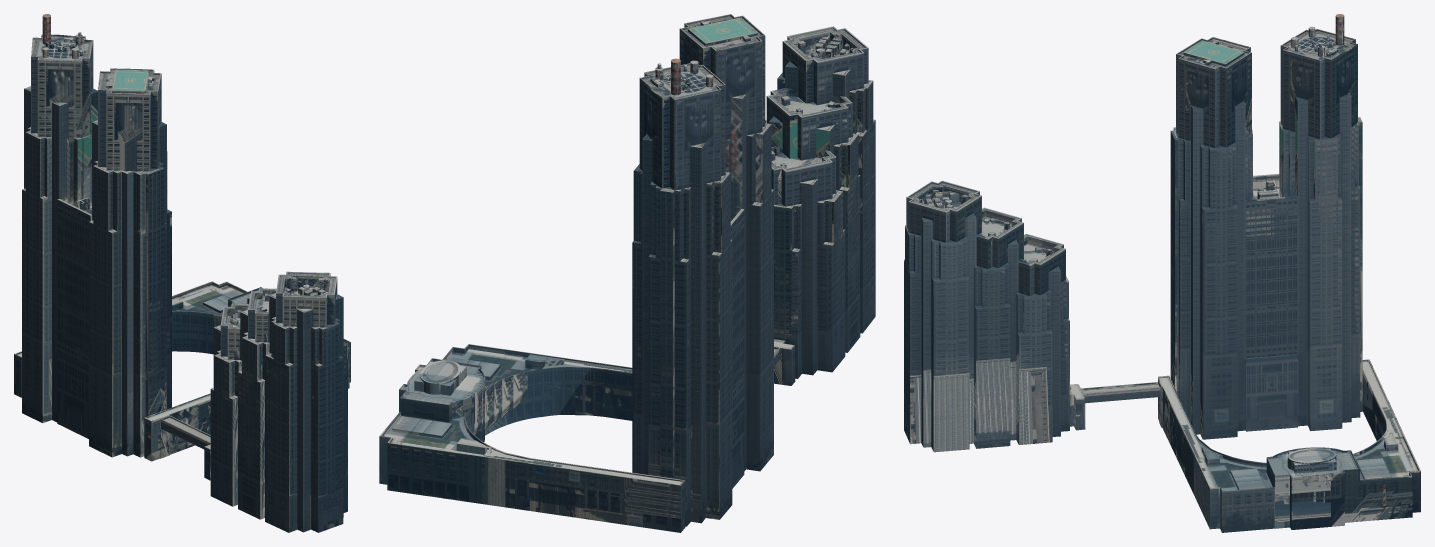
Rendered from citymodel.glb.
The picture shows the model from 3 angles, left to right: view 1: azimuth 30°, elevation 25°; view 2: azimuth 150°, elevation 25°; view 3: azimuth 270°, elevation 25°; orthographic projection. The views are drawn at different scales.
Visible parts, largest first — view 1: bldg_94caaf2f-dec2-41a7-8b0f-06ecd0fac6c7, bldg_d0967cf5-1f32-48d1-9dda-11320828a076, bldg_7e673dbb-95f1-4a0c-bdab-b0d7bb352d3b, bldg_178c97c9-6d9b-4418-84ec-b6eb23f41490, bldg_5da56097-5f78-481b-bcb6-a50a2d6aaad1; view 2: bldg_94caaf2f-dec2-41a7-8b0f-06ecd0fac6c7, bldg_d0967cf5-1f32-48d1-9dda-11320828a076, bldg_fa3ef9ba-cd3c-4ddf-b8b9-87becc2b5792, bldg_7e673dbb-95f1-4a0c-bdab-b0d7bb352d3b, bldg_178c97c9-6d9b-4418-84ec-b6eb23f41490, bldg_773000d3-5879-4899-b555-44b9037656c5, bldg_c0f762a4-cfc0-49fb-85d0-660765c6b6ca; view 3: bldg_94caaf2f-dec2-41a7-8b0f-06ecd0fac6c7, bldg_d0967cf5-1f32-48d1-9dda-11320828a076, bldg_c0f762a4-cfc0-49fb-85d0-660765c6b6ca, bldg_773000d3-5879-4899-b555-44b9037656c5, bldg_7e673dbb-95f1-4a0c-bdab-b0d7bb352d3b, bldg_178c97c9-6d9b-4418-84ec-b6eb23f41490, bldg_fa3ef9ba-cd3c-4ddf-b8b9-87becc2b5792, bldg_5da56097-5f78-481b-bcb6-a50a2d6aaad1.
Part boxes in pixels (<box>): bldg_94caaf2f-dec2-41a7-8b0f-06ecd0fac6c7: <box>22,14,171,457</box>; bldg_d0967cf5-1f32-48d1-9dda-11320828a076: <box>204,271,347,532</box>; bldg_7e673dbb-95f1-4a0c-bdab-b0d7bb352d3b: <box>172,281,247,354</box>; bldg_178c97c9-6d9b-4418-84ec-b6eb23f41490: <box>144,393,210,461</box>; bldg_5da56097-5f78-481b-bcb6-a50a2d6aaad1: <box>161,416,210,449</box>; bldg_94caaf2f-dec2-41a7-8b0f-06ecd0fac6c7: <box>632,14,773,526</box>; bldg_d0967cf5-1f32-48d1-9dda-11320828a076: <box>766,26,875,385</box>; bldg_fa3ef9ba-cd3c-4ddf-b8b9-87becc2b5792: <box>481,446,685,532</box>; bldg_7e673dbb-95f1-4a0c-bdab-b0d7bb352d3b: <box>379,411,489,503</box>; bldg_178c97c9-6d9b-4418-84ec-b6eb23f41490: <box>541,356,632,420</box>; bldg_773000d3-5879-4899-b555-44b9037656c5: <box>442,344,551,435</box>; bldg_c0f762a4-cfc0-49fb-85d0-660765c6b6ca: <box>399,358,484,441</box>; bldg_94caaf2f-dec2-41a7-8b0f-06ecd0fac6c7: <box>1170,14,1362,439</box>; bldg_d0967cf5-1f32-48d1-9dda-11320828a076: <box>904,180,1085,452</box>; bldg_c0f762a4-cfc0-49fb-85d0-660765c6b6ca: <box>1266,447,1359,529</box>; bldg_773000d3-5879-4899-b555-44b9037656c5: <box>1195,452,1274,532</box>; bldg_7e673dbb-95f1-4a0c-bdab-b0d7bb352d3b: <box>1353,433,1420,521</box>; bldg_178c97c9-6d9b-4418-84ec-b6eb23f41490: <box>1158,375,1223,496</box>; bldg_fa3ef9ba-cd3c-4ddf-b8b9-87becc2b5792: <box>1362,359,1403,440</box>; bldg_5da56097-5f78-481b-bcb6-a50a2d6aaad1: <box>1081,382,1160,403</box>.
Size of the model in its own units: 196 by 261 by 309.
Materials: 9 (8 with a texture image).
